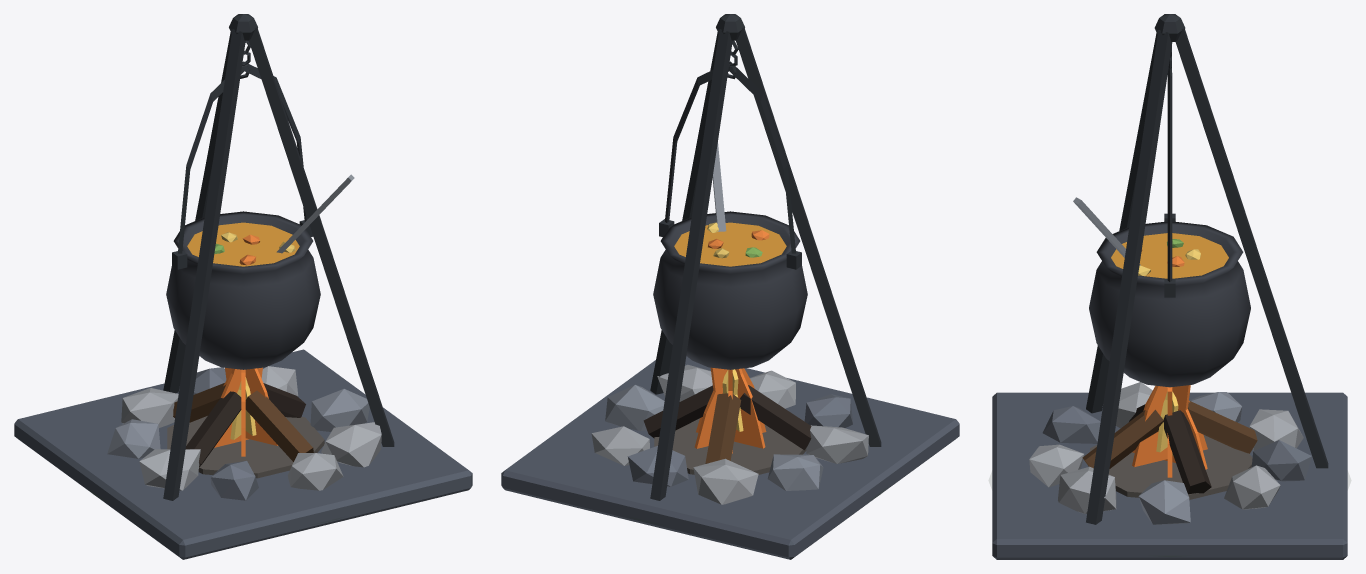
Rendered from soup_cauldron.glb.
The picture shows the model from 3 angles, left to right: view 1: azimuth 30°, elevation 25°; view 2: azimuth 150°, elevation 25°; view 3: azimuth 270°, elevation 25°; orthographic projection. The views are drawn at different scales.
Visible parts, largest first — view 1: soup_cauldron; view 2: soup_cauldron; view 3: soup_cauldron.
Part boxes in pixels (x1,y1,x2,y2): soup_cauldron: [14, 14, 472, 559]; soup_cauldron: [501, 14, 959, 559]; soup_cauldron: [992, 14, 1347, 559].
Bounding box in the file's own units: 0.94 × 1.35 × 0.94.
